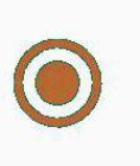RadioButton: (1, 1, 139, 165)
